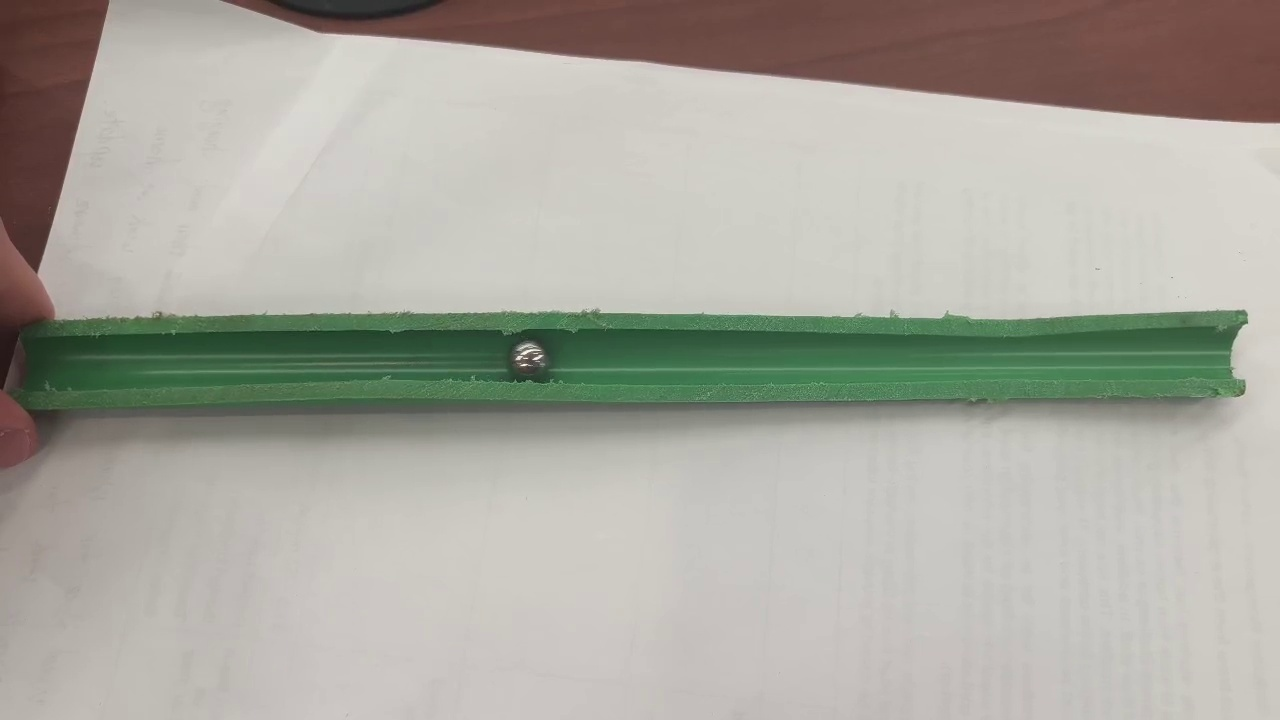ball: (512, 341, 547, 375)
